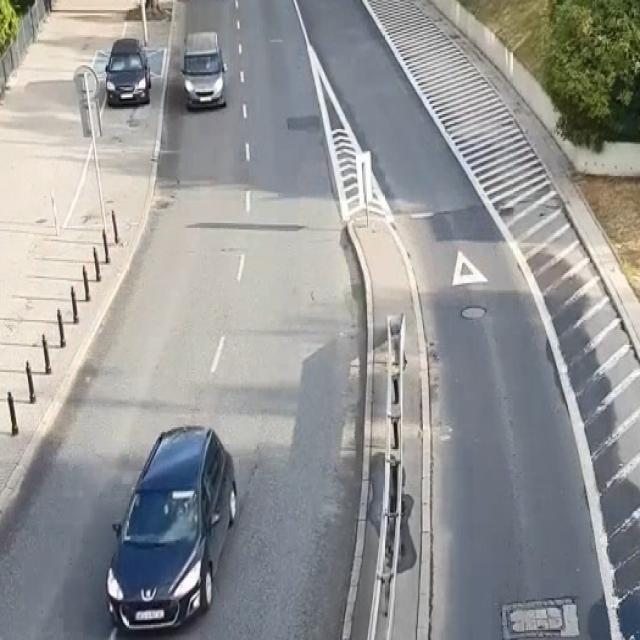car: (106, 428, 238, 630), (182, 32, 226, 108)
